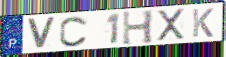1: (103, 12, 122, 46)
C: (58, 15, 89, 48)
H: (122, 9, 156, 47)
K: (191, 7, 216, 39)
V: (25, 17, 57, 50)
X: (156, 7, 187, 43)
